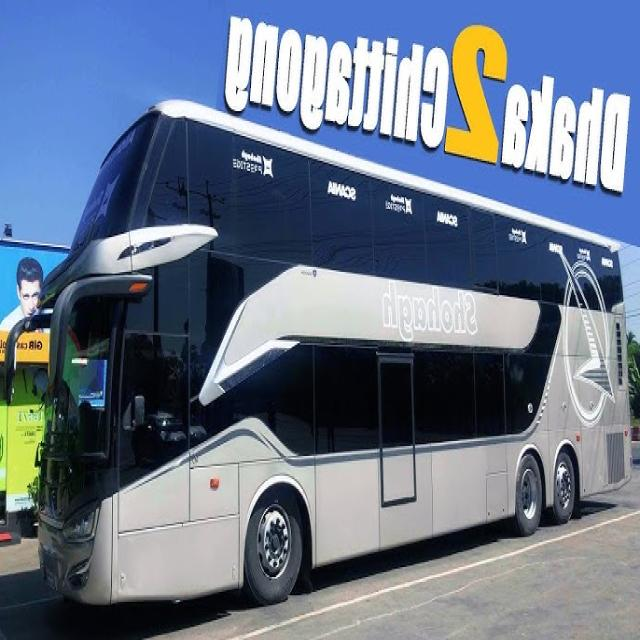Double decker: (1, 84, 637, 625)
